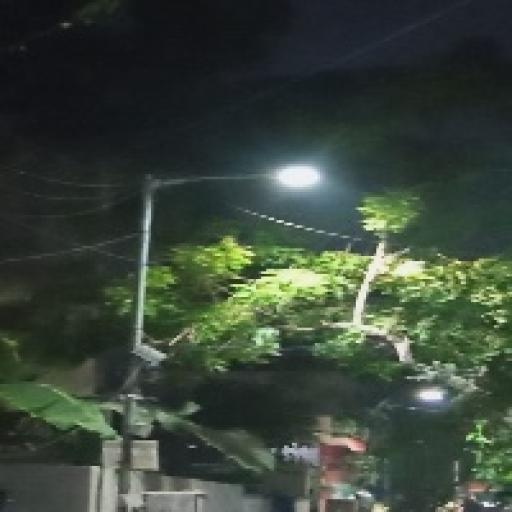Working: (262, 157, 330, 202), (401, 377, 454, 411)
